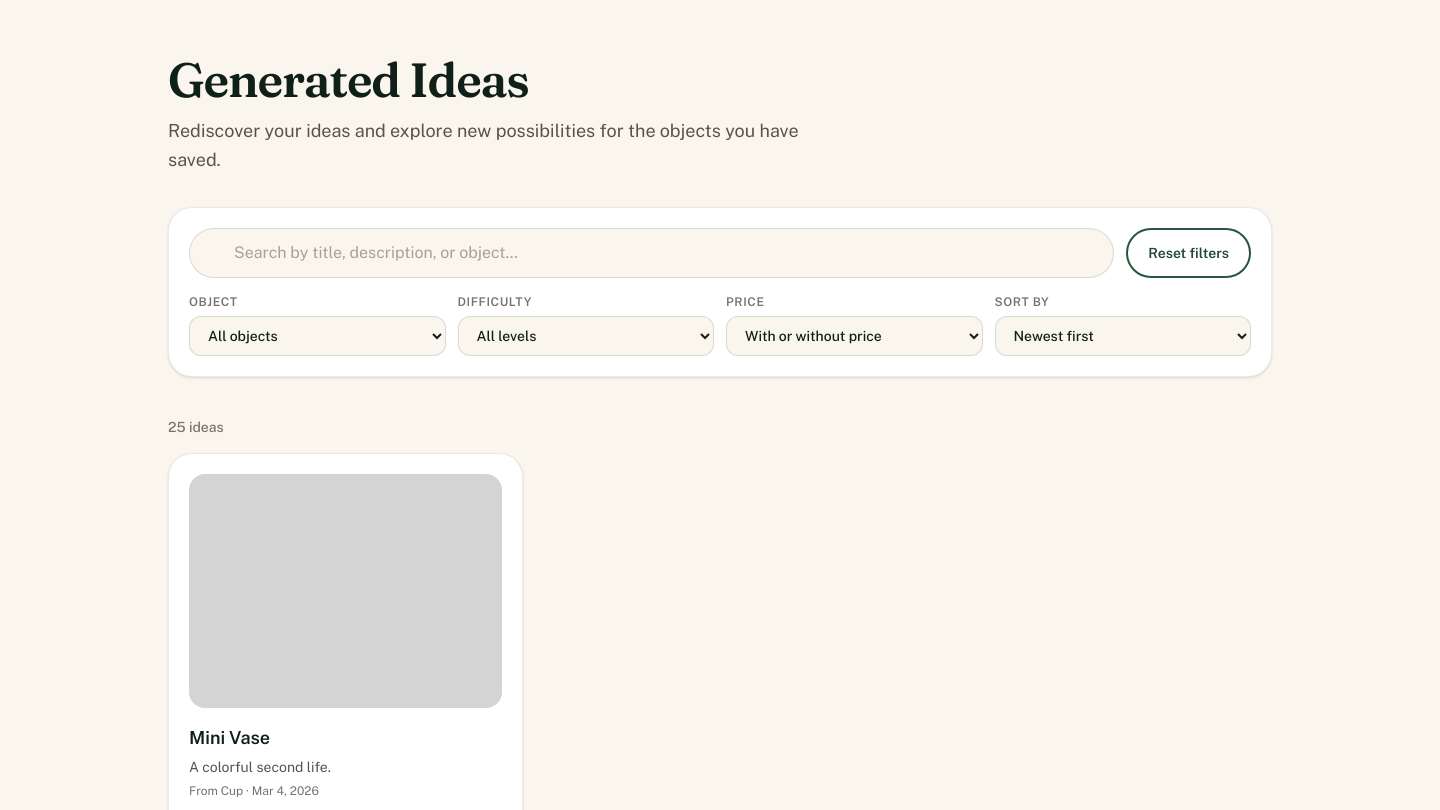
Scenario: GeneratedIdeas › ignores stale responses when requests overlap
Select "Title A–Z" in the dropdown with id "library-sort": (1123, 336) left=994, top=316, right=1251, bottom=356
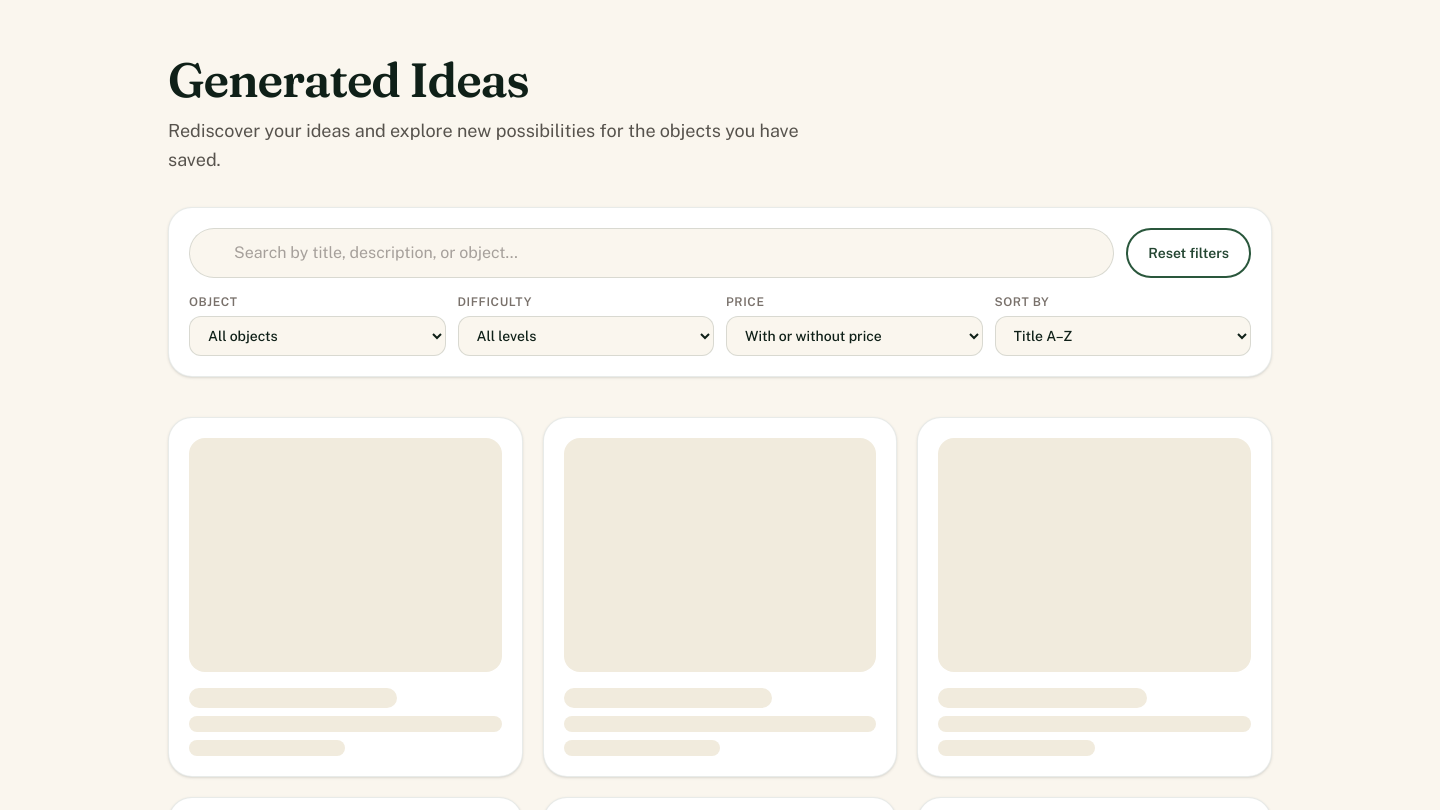
Select "Oldest first" in the dropdown with id "library-sort": (1123, 336) left=994, top=316, right=1251, bottom=356
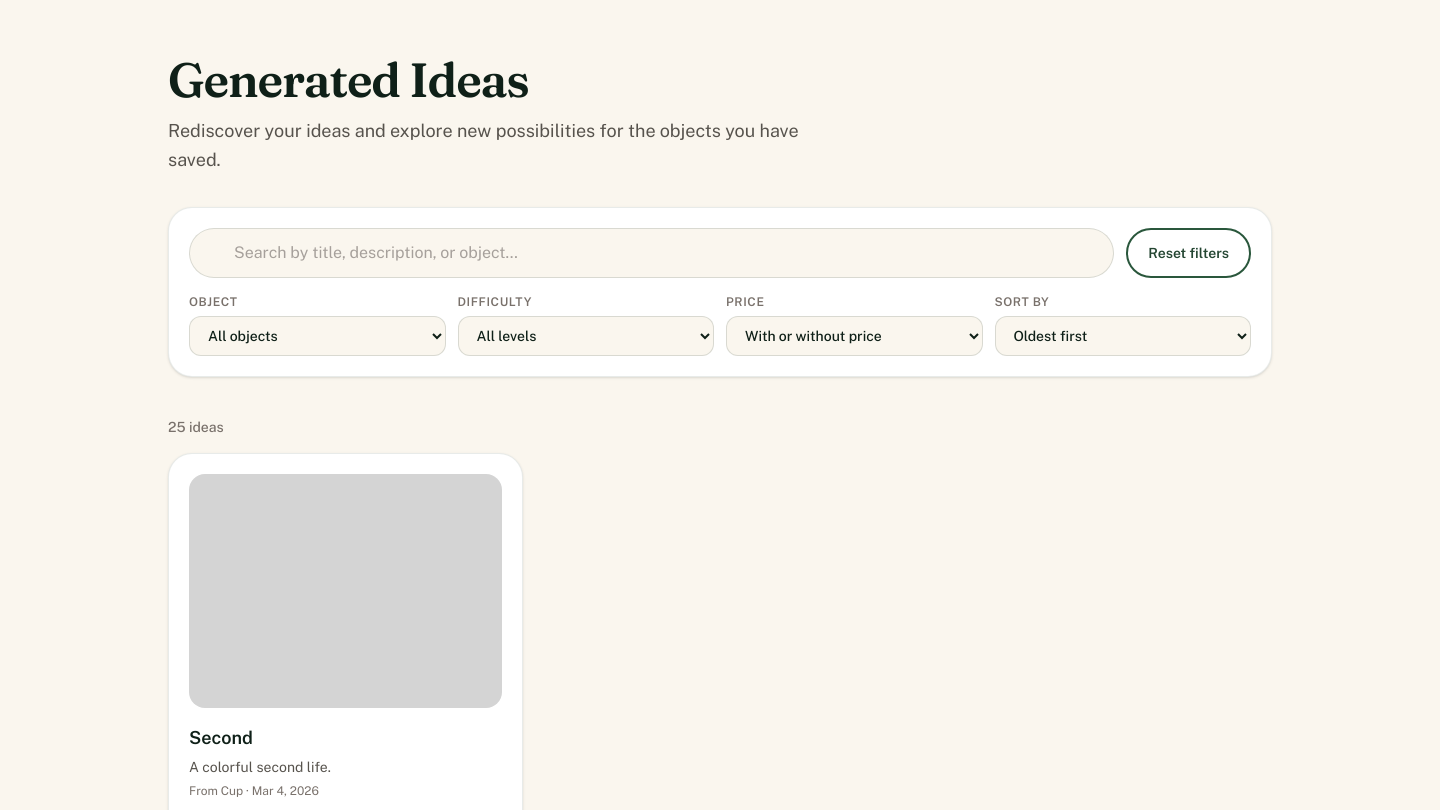
Check: the text "First" is not shown
Check: the text "Second" is shown, box left=189, top=727, right=253, bottom=748
